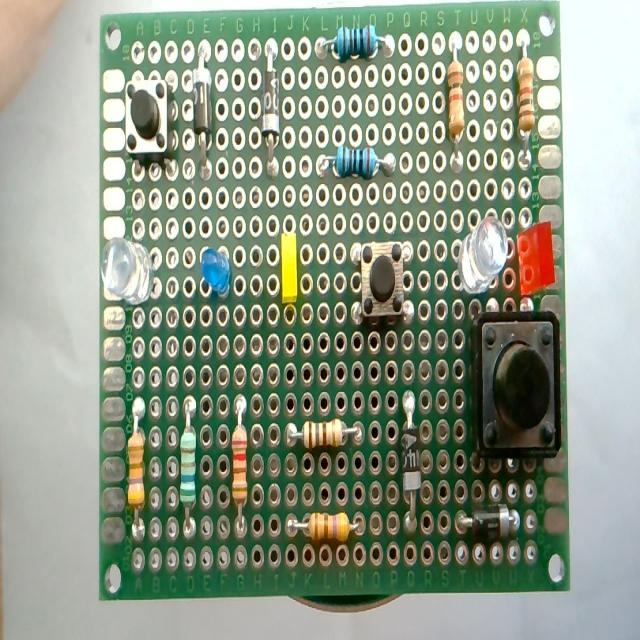diode: (192, 47, 214, 180), (400, 391, 420, 526), (260, 45, 280, 178), (460, 503, 520, 540)
led: (456, 214, 508, 294), (101, 236, 156, 306), (516, 217, 556, 296), (200, 245, 232, 298), (280, 230, 298, 305)
resistor: (313, 22, 393, 62), (318, 145, 396, 180), (128, 399, 148, 535), (230, 397, 248, 532), (288, 511, 361, 543), (286, 419, 362, 449), (180, 399, 197, 533), (518, 42, 536, 166), (447, 42, 464, 169)
switch: (471, 307, 564, 458), (351, 240, 414, 324), (125, 78, 173, 159)
